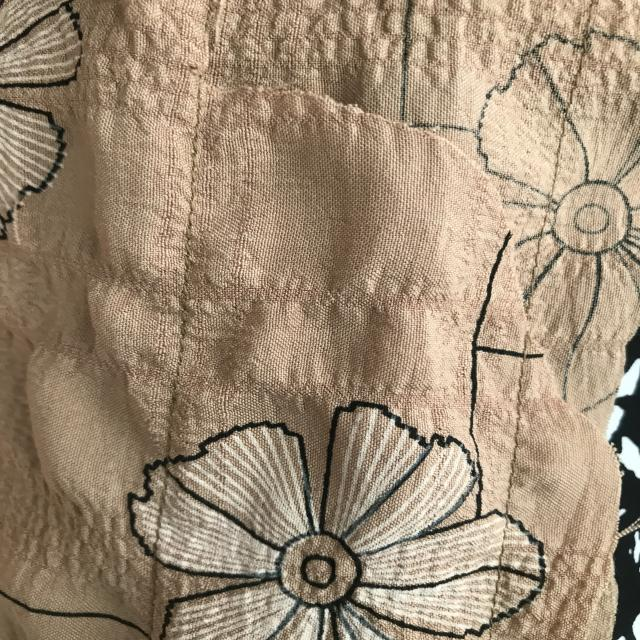good: (506, 399, 529, 493)
